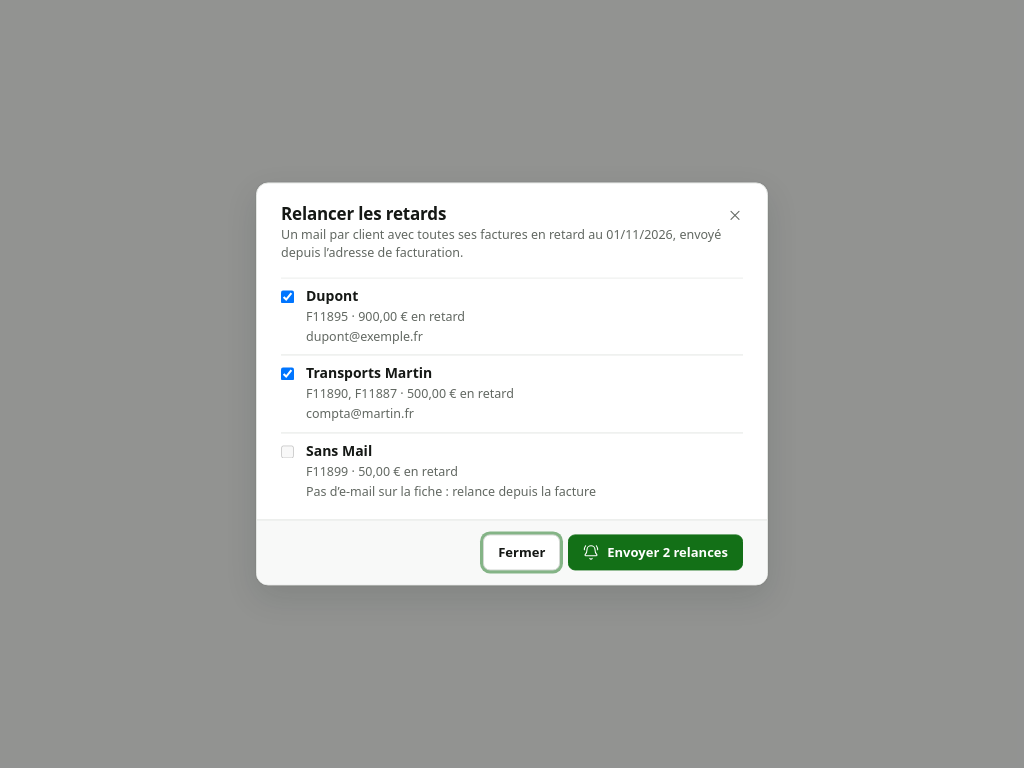
Test: relance des retards › fenêtre › un mail par client coché, relance notée sur chaque facture, client sans e-mail signalé
Expected: the text "dupont@exemple.fr" is shown, [306, 328, 423, 345]
Expected: the text "Pas d’e-mail sur la fiche : relance depuis la facture" is shown, [306, 483, 596, 500]
Click the checkbox named "Relancer Dupont": (288, 296) [281, 290, 294, 303]
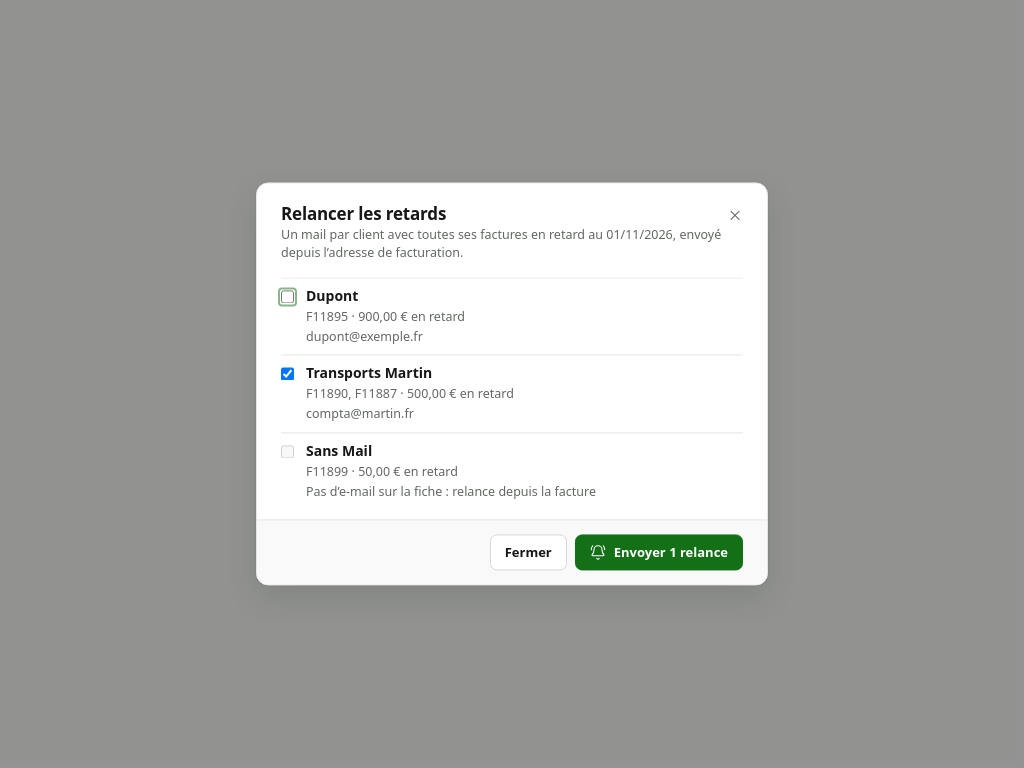
Click the button "Envoyer 1 relance": (659, 553) [575, 535, 743, 571]
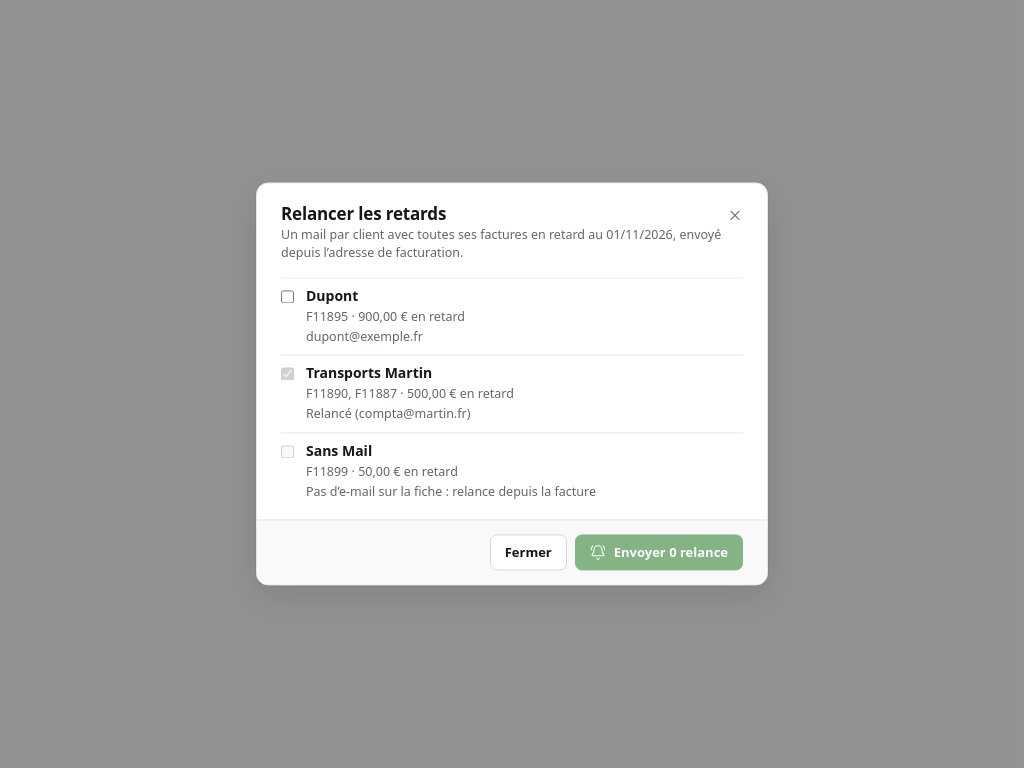
Expected: the text "Relancé (compta@martin.fr)" is shown, [306, 406, 470, 423]
